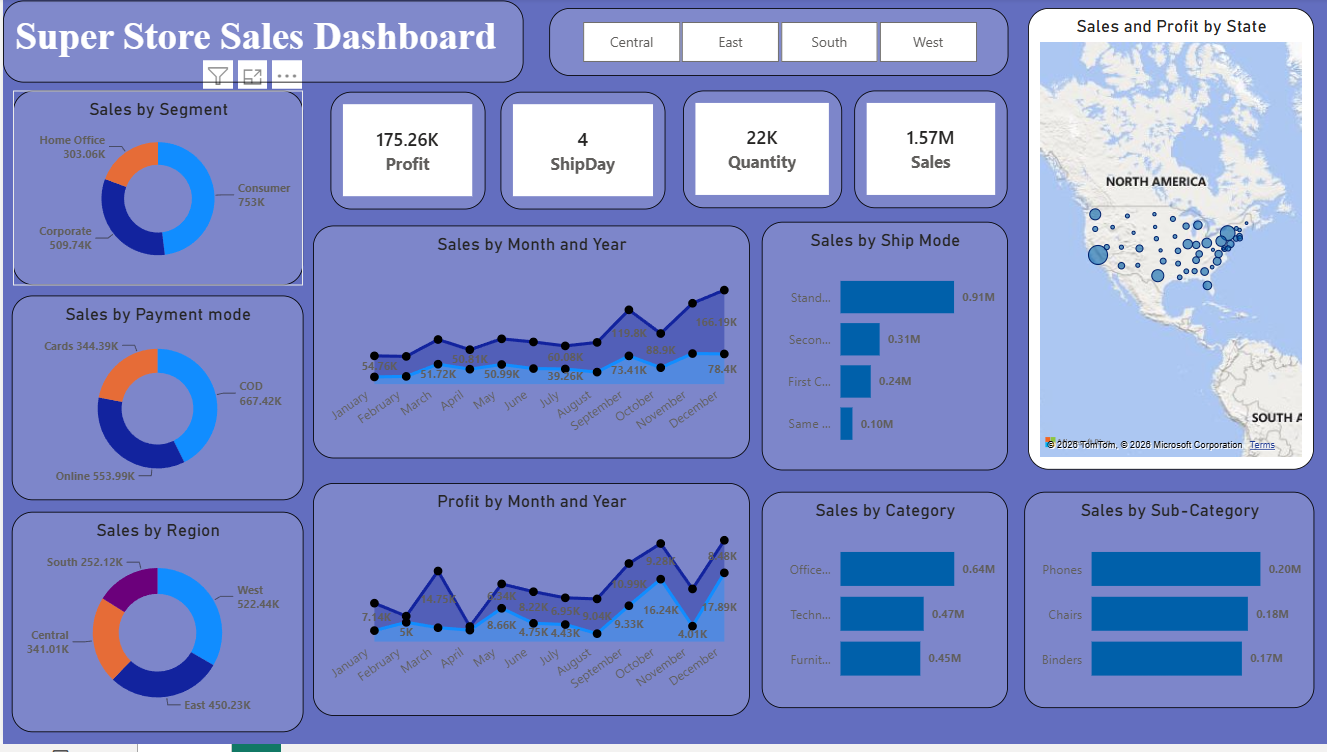

The dashboard page shown, as its layout file describes it:
{"tool":"powerbi","page":{"name":"Page 1","canvas":[1280,720],"ordinal":0},"visuals":[{"type":"clusteredBarChart","title":"Sales by Category","fields":{"Category":["SuperStore_Sales_Dataset.Category"],"Y":["Sum(SuperStore_Sales_Dataset.Sales)"]},"box":[732.8,476.2,237.4,208.6],"z":0},{"type":"clusteredBarChart","title":"Sales by Sub-Category","fields":{"Category":["SuperStore_Sales_Dataset.Sub-Category"],"Y":["Sum(SuperStore_Sales_Dataset.Sales)"]},"box":[985.3,476.2,279.9,208.6],"z":1000},{"type":"clusteredBarChart","title":"Sales by Ship Mode","fields":{"Category":["SuperStore_Sales_Dataset.Ship Mode"],"Y":["Sum(SuperStore_Sales_Dataset.Sales)"]},"box":[732.8,215.4,237.4,240.1],"z":2000},{"type":"stackedAreaChart","title":"Sales by Month and Year","fields":{"Category":["SuperStore_Sales_Dataset.Order Date.Variation.Date Hierarchy.Month","SuperStore_Sales_Dataset.Order Date.Variation.Date Hierarchy.Day"],"Y":["Sum(SuperStore_Sales_Dataset.Sales)"],"Series":["SuperStore_Sales_Dataset.Order Date.Variation.Date Hierarchy.Year"]},"box":[299.1,219.6,421.3,225],"z":3000},{"type":"stackedAreaChart","title":"Profit by Month and Year","fields":{"Category":["SuperStore_Sales_Dataset.Order Date.Variation.Date Hierarchy.Month","SuperStore_Sales_Dataset.Order Date.Variation.Date Hierarchy.Day"],"Series":["SuperStore_Sales_Dataset.Order Date.Variation.Date Hierarchy.Year"],"Y":["Sum(SuperStore_Sales_Dataset.Profit)"]},"box":[299.1,467.9,421.3,225],"z":4000},{"type":"map","title":"Sales and Profit by State","fields":{"Category":["SuperStore_Sales_Dataset.State"],"Size":["Sum(SuperStore_Sales_Dataset.Sales)"]},"box":[989.4,9.6,275.8,446],"z":5000},{"type":"donutChart","title":"Sales by Segment","fields":{"Category":["SuperStore_Sales_Dataset.Segment"],"Y":["Sum(SuperStore_Sales_Dataset.Sales)"]},"box":[9.6,89.2,279.9,188],"z":6000},{"type":"donutChart","title":"Sales by Payment mode","fields":{"Y":["Sum(SuperStore_Sales_Dataset.Sales)"],"Category":["SuperStore_Sales_Dataset.Payment Mode"]},"box":[8.2,286.8,281.3,197.6],"z":7000},{"type":"slicer","fields":{"Values":["SuperStore_Sales_Dataset.Region"]},"box":[526.9,9.6,443.2,65.9],"z":8000},{"type":"textbox","box":[0,2.7,502.2,79.6],"z":9000},{"type":"cardVisual","fields":{"Data":["Sum(SuperStore_Sales_Dataset.Sales)"]},"box":[822,89.2,148.2,113.9],"z":10000},{"type":"cardVisual","fields":{"Data":["Sum(SuperStore_Sales_Dataset.Quantity)"]},"box":[655.9,89.2,153.7,113.9],"z":11000},{"type":"cardVisual","fields":{"Data":["Avg(SuperStore_Sales_Dataset.Average_Delivery)"]},"box":[480.3,90.6,159.2,113.9],"z":12000},{"type":"cardVisual","fields":{"Data":["Sum(SuperStore_Sales_Dataset.Profit)"]},"box":[315.6,90.6,149.6,113.9],"z":13000},{"type":"donutChart","title":"Sales by Region","fields":{"Y":["Sum(SuperStore_Sales_Dataset.Sales)"],"Category":["SuperStore_Sales_Dataset.Region"]},"box":[8.2,495.4,281.3,212.7],"z":14000}]}

Visuals, with their boxes in screenshot pixels (x1, y1, x2, y2), scaled from the page's 1280x720 canvas onto the 1327x752 screenshot:
"Sales by Category" clusteredBarChart: rect(760, 497, 1006, 715)
"Sales by Sub-Category" clusteredBarChart: rect(1021, 497, 1312, 715)
"Sales by Ship Mode" clusteredBarChart: rect(760, 225, 1006, 476)
"Sales by Month and Year" stackedAreaChart: rect(310, 229, 747, 464)
"Profit by Month and Year" stackedAreaChart: rect(310, 489, 747, 724)
"Sales and Profit by State" map: rect(1026, 10, 1312, 476)
"Sales by Segment" donutChart: rect(10, 93, 300, 290)
"Sales by Payment mode" donutChart: rect(9, 300, 300, 506)
slicer - SuperStore_Sales_Dataset.Region: rect(546, 10, 1006, 79)
textbox: rect(0, 3, 521, 86)
cardVisual - Sum(SuperStore_Sales_Dataset.Sales): rect(852, 93, 1006, 212)
cardVisual - Sum(SuperStore_Sales_Dataset.Quantity): rect(680, 93, 839, 212)
cardVisual - Avg(SuperStore_Sales_Dataset.Average_Delivery): rect(498, 95, 663, 214)
cardVisual - Sum(SuperStore_Sales_Dataset.Profit): rect(327, 95, 482, 214)
"Sales by Region" donutChart: rect(9, 517, 300, 740)
